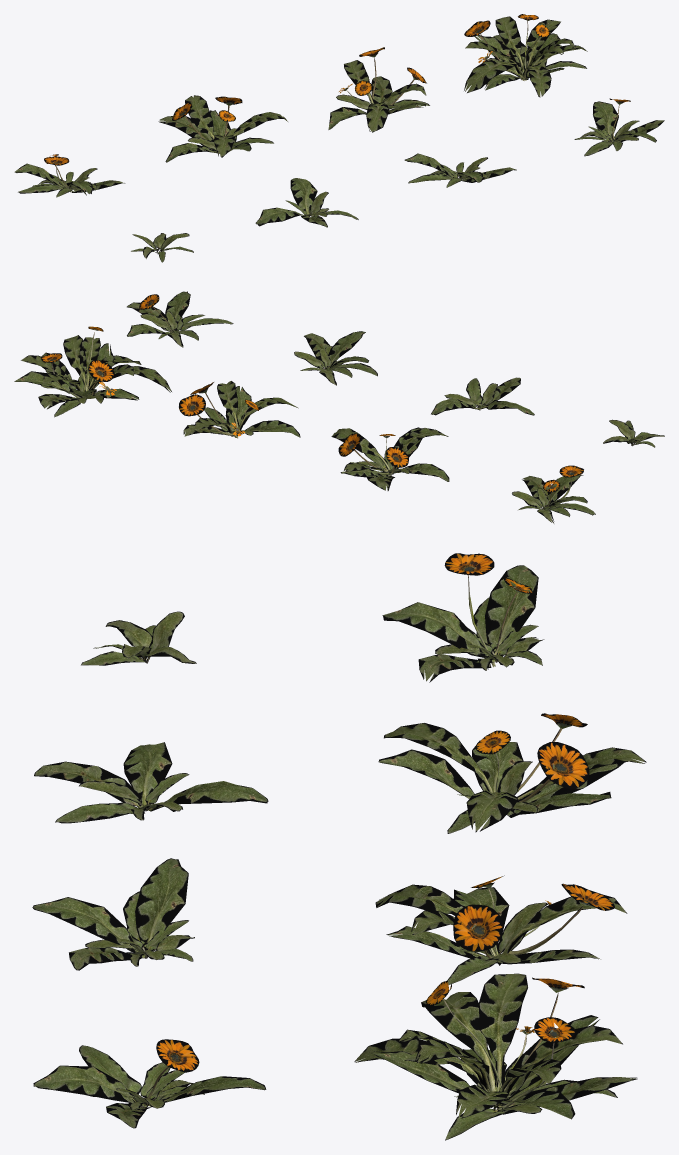
Rendered from flower_gazania_1k.glb.
The picture shows the model from 3 angles, top to bottom: view 1: azimuth 30°, elevation 25°; view 2: azimuth 150°, elevation 25°; view 3: azimuth 270°, elevation 25°; orthographic projection. The views are drawn at different scales.
Visible parts, largest first — view 1: flower_gazania_h_LOD0, flower_gazania_f_LOD0, flower_gazania_g_LOD0, flower_gazania_d_LOD0, flower_gazania_b_LOD0, flower_gazania_e_LOD0, flower_gazania_c_LOD0, flower_gazania_a_LOD0; view 2: flower_gazania_h_LOD0, flower_gazania_g_LOD0, flower_gazania_f_LOD0, flower_gazania_d_LOD0, flower_gazania_e_LOD0, flower_gazania_c_LOD0, flower_gazania_b_LOD0, flower_gazania_a_LOD0; view 3: flower_gazania_h_LOD0, flower_gazania_f_LOD0, flower_gazania_g_LOD0, flower_gazania_e_LOD0, flower_gazania_c_LOD0, flower_gazania_d_LOD0, flower_gazania_b_LOD0, flower_gazania_a_LOD0.
Boxes of the visible parts, x1,y1,x2,y2 form: flower_gazania_h_LOD0: (464,14,587,97); flower_gazania_f_LOD0: (158,95,287,162); flower_gazania_g_LOD0: (328,47,429,132); flower_gazania_d_LOD0: (574,98,664,156); flower_gazania_b_LOD0: (255,178,358,227); flower_gazania_e_LOD0: (14,154,125,197); flower_gazania_c_LOD0: (404,153,516,187); flower_gazania_a_LOD0: (131,233,193,262); flower_gazania_h_LOD0: (14,326,171,417); flower_gazania_g_LOD0: (179,381,300,438); flower_gazania_f_LOD0: (331,427,449,490); flower_gazania_d_LOD0: (127,291,233,347); flower_gazania_e_LOD0: (512,465,595,523); flower_gazania_c_LOD0: (294,331,377,385); flower_gazania_b_LOD0: (431,377,534,415); flower_gazania_a_LOD0: (603,419,664,447); flower_gazania_h_LOD0: (354,973,637,1140); flower_gazania_f_LOD0: (378,713,646,833); flower_gazania_g_LOD0: (375,875,627,984); flower_gazania_e_LOD0: (382,553,544,682); flower_gazania_c_LOD0: (32,858,194,970); flower_gazania_d_LOD0: (33,1039,266,1128); flower_gazania_b_LOD0: (34,742,268,823); flower_gazania_a_LOD0: (81,611,196,665).
Bounding box in the file's own units: 1.48 × 0.1655 × 0.7024.
Materials: 1 (1 with a texture image).
